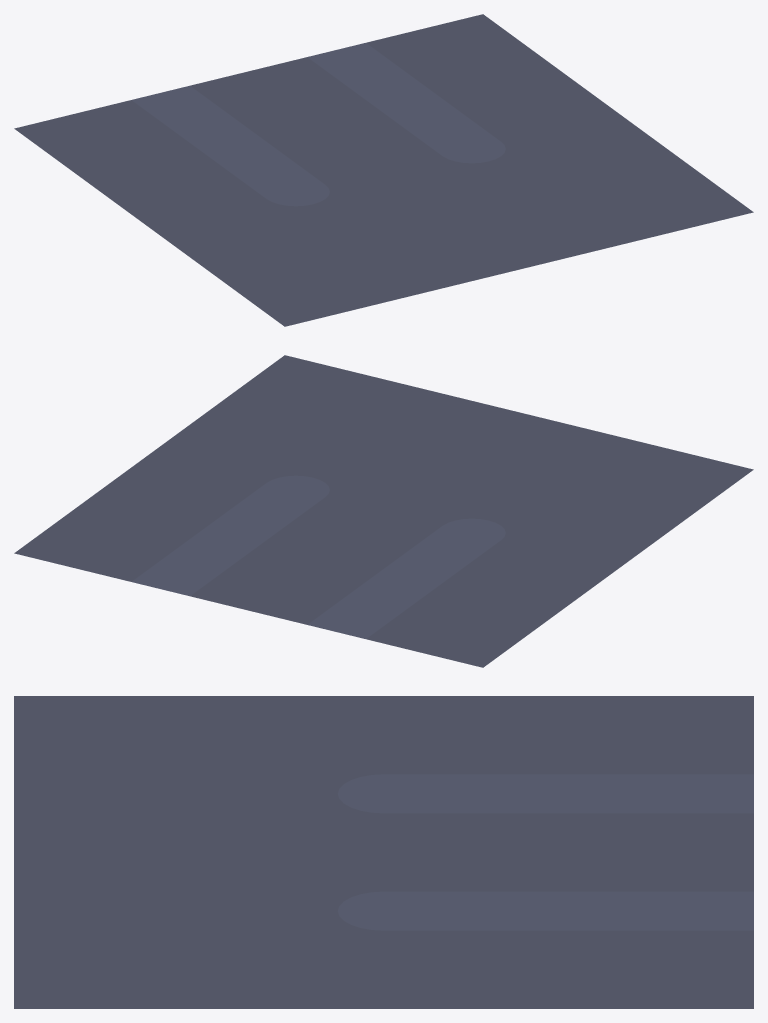
Rendered from terrain_roadEnd.glb.
3 views of the same model, one above another, from view 1: azimuth 30°, elevation 25°; view 2: azimuth 150°, elevation 25°; view 3: azimuth 270°, elevation 25° (orthographic). The views are drawn at different scales.
Visible parts, largest first — view 1: terrain_roadEnd; view 2: terrain_roadEnd; view 3: terrain_roadEnd.
Part boxes in pixels (x1=…): terrain_roadEnd: x1=14, y1=14, x2=753, y2=326; terrain_roadEnd: x1=14, y1=355, x2=753, y2=667; terrain_roadEnd: x1=14, y1=696, x2=753, y2=1008.
Size of the model in its own units: 1 by 0 by 1.
